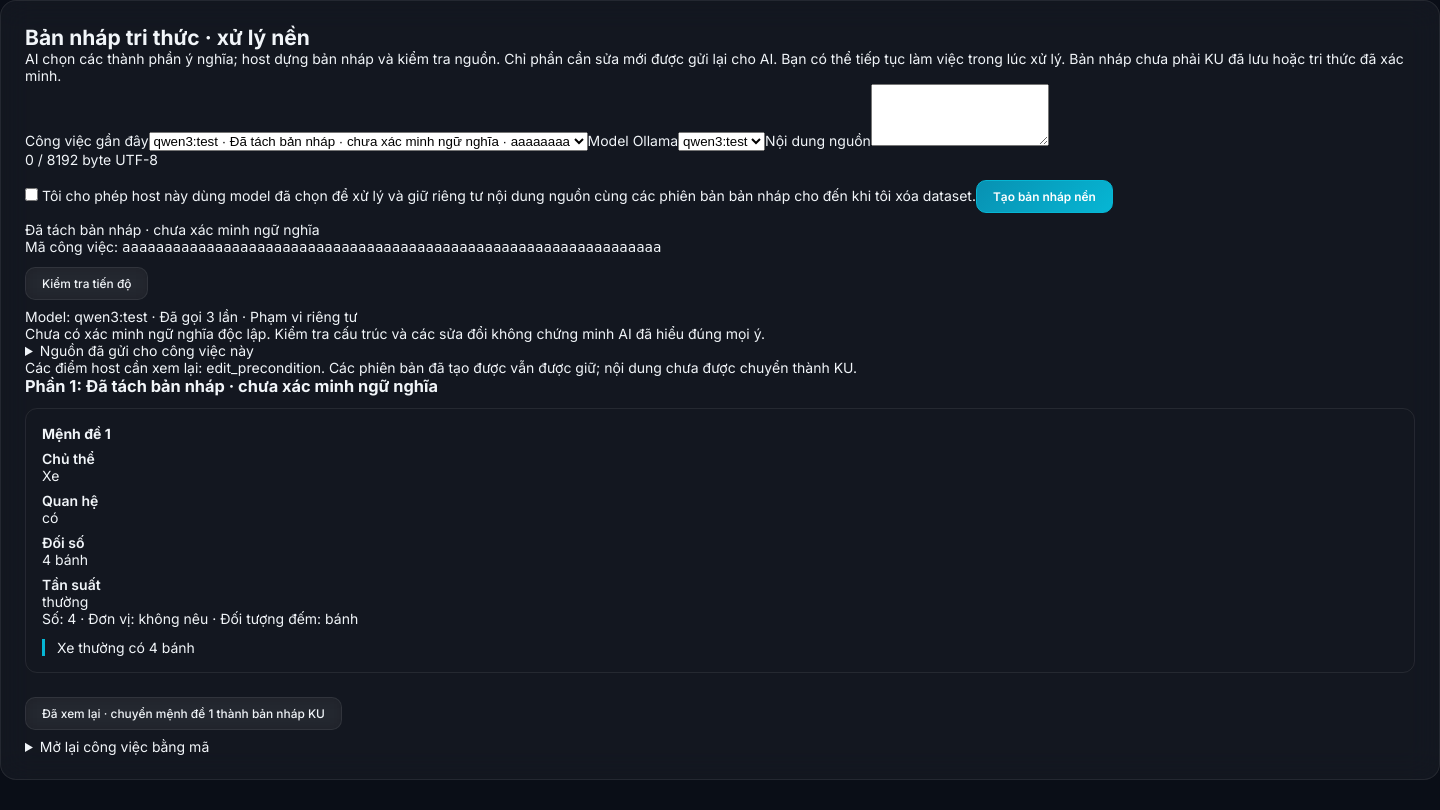
Scenario: keeps unresolved lowered claims unsaveable
Step 1. Click the button "Đã xem lại · chuyển mệnh đề 1 thành bản nháp KU" → (183,714), box 25,697 -> 342,730
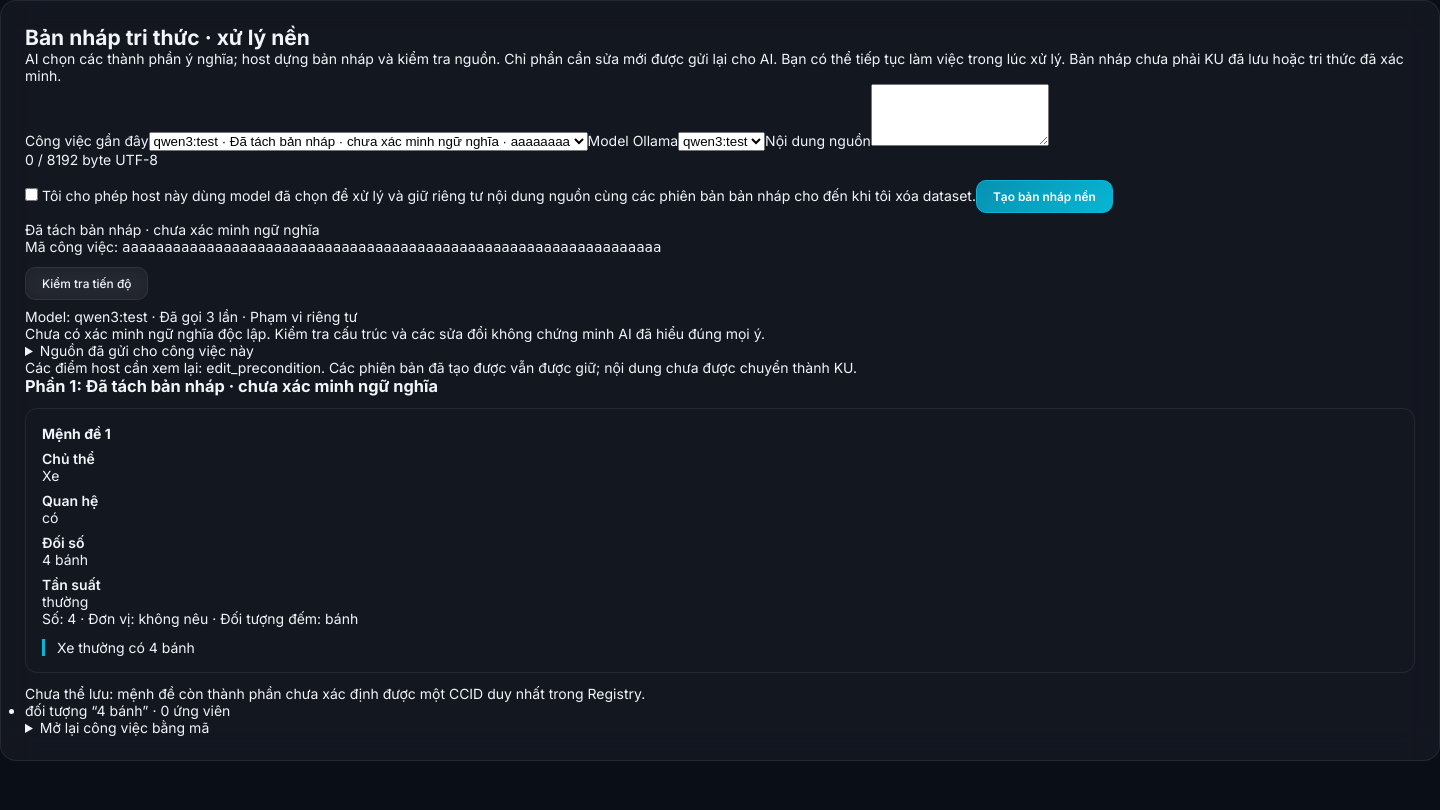
Expected: the text "Chưa thể lưu" is shown, 25,685 -> 645,702
Expected: the list item "đối tượng “4 bánh” · 0 ứng viên" is shown, 25,702 -> 230,719
